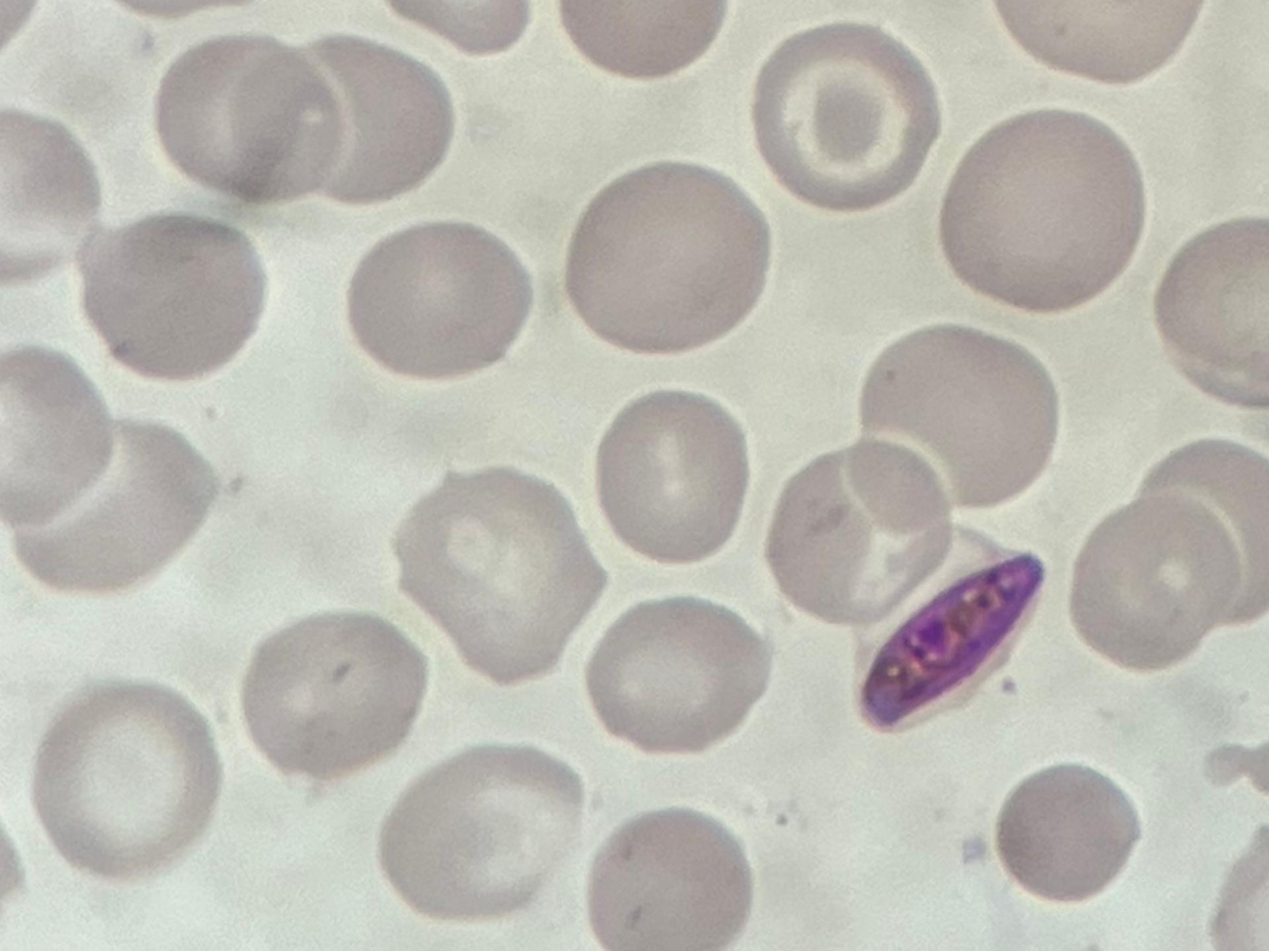Infected: (849, 527, 1048, 730)
Uninfected: (395, 473, 605, 690), (939, 111, 1146, 311), (567, 159, 768, 354), (377, 741, 591, 921), (30, 681, 221, 882), (859, 327, 1061, 514), (763, 438, 952, 628), (752, 19, 937, 213), (10, 418, 210, 596), (235, 37, 453, 200), (154, 32, 350, 200), (79, 210, 266, 382), (240, 613, 427, 781), (1071, 489, 1241, 673), (345, 220, 531, 381), (588, 598, 771, 756), (593, 389, 752, 563), (588, 807, 755, 951), (1143, 435, 1269, 617), (1157, 215, 1269, 409), (0, 344, 116, 520), (993, 765, 1139, 903)
